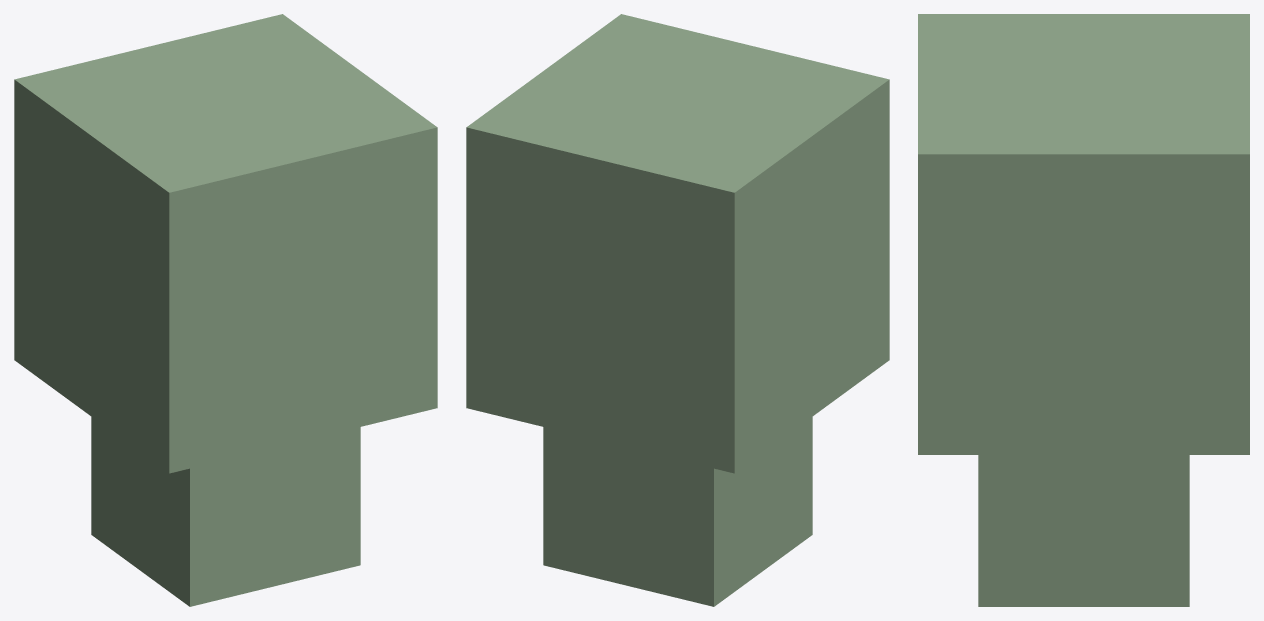
Rendered from plant-small-350.glb.
The picture shows the model from 3 angles, left to right: view 1: azimuth 30°, elevation 25°; view 2: azimuth 150°, elevation 25°; view 3: azimuth 270°, elevation 25°; orthographic projection. The views are drawn at different scales.
Visible parts, largest first — view 1: plant-small-350; view 2: plant-small-350; view 3: plant-small-350.
Boxes of the visible parts, x1,y1,x2,y2 form: plant-small-350: [14, 14, 437, 606]; plant-small-350: [466, 14, 889, 606]; plant-small-350: [918, 14, 1249, 606].
Size of the model in its own units: 0.22 by 0.35 by 0.22.
